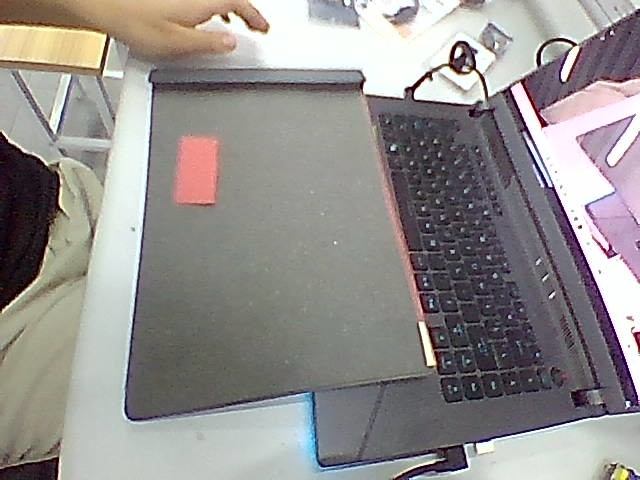card: (174, 136, 218, 203)
